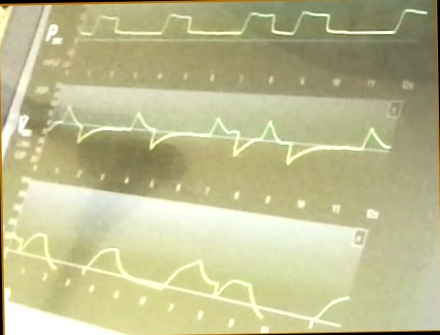Double_Triggering Flow: (51, 100, 389, 170)
Double_Triggering Volume: (13, 227, 350, 323)
